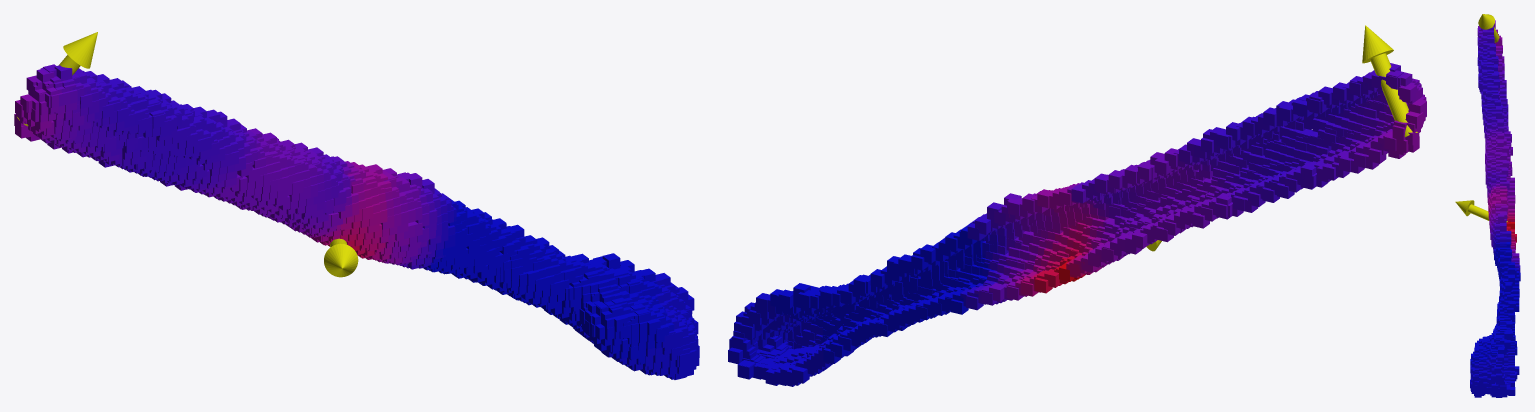
File: heatmap_force.glb
3 renders of one model, left to right at view 1: azimuth 30°, elevation 25°; view 2: azimuth 150°, elevation 25°; view 3: azimuth 270°, elevation 25°, orthographic. The views are drawn at different scales.
Parts seen in each view (by area): view 1: world; view 2: world; view 3: world.
Part boxes in pixels (x1=…): world: x1=14, y1=32, x2=699, y2=379; world: x1=728, y1=25, x2=1426, y2=386; world: x1=1455, y1=14, x2=1520, y2=397.
Size of the model in its own units: 0.1818 by 0.1233 by 0.0304.
